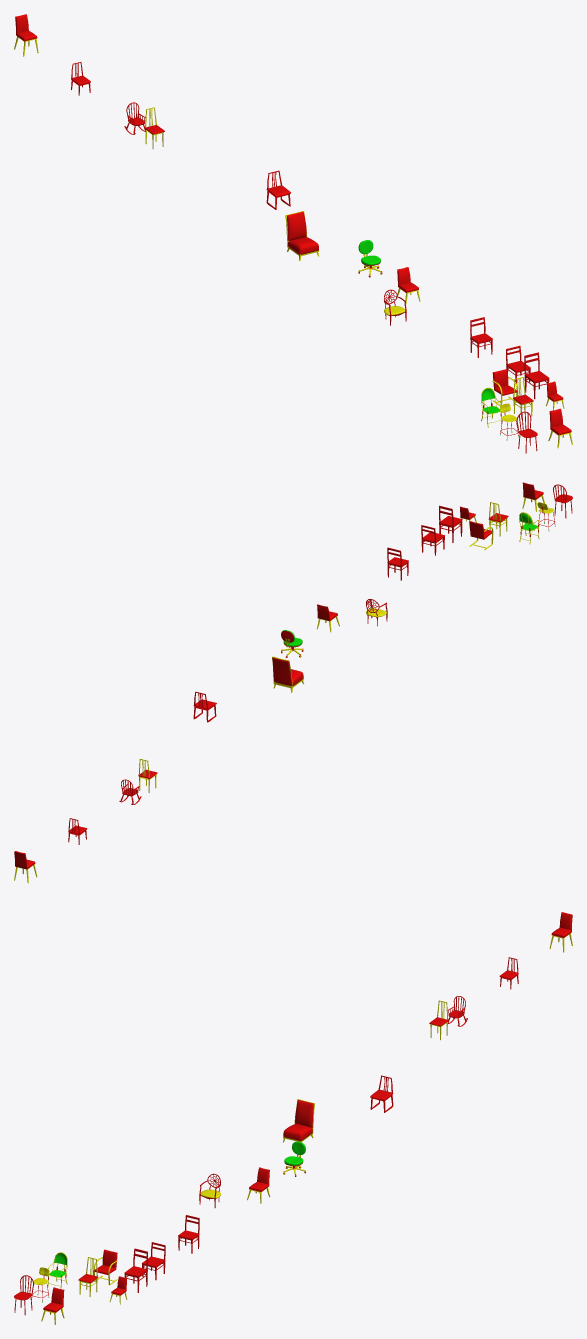
The model's file is chairs_grp.fbx.
The picture shows the model from 3 angles, top to bottom: view 1: azimuth 30°, elevation 25°; view 2: azimuth 150°, elevation 25°; view 3: azimuth 330°, elevation 25°; orthographic projection. The views are drawn at different scales.
Parts seen in each view (by area): view 1: chair_215; view 2: chair_215; view 3: chair_215.
Boxes of the visible parts, x1,y1,x2,y2 form: chair_215: (285,211,318,260); chair_215: (272,656,304,692); chair_215: (283,1099,314,1142).
Bounding box in the file's own units: 256 × 109 × 2960.
